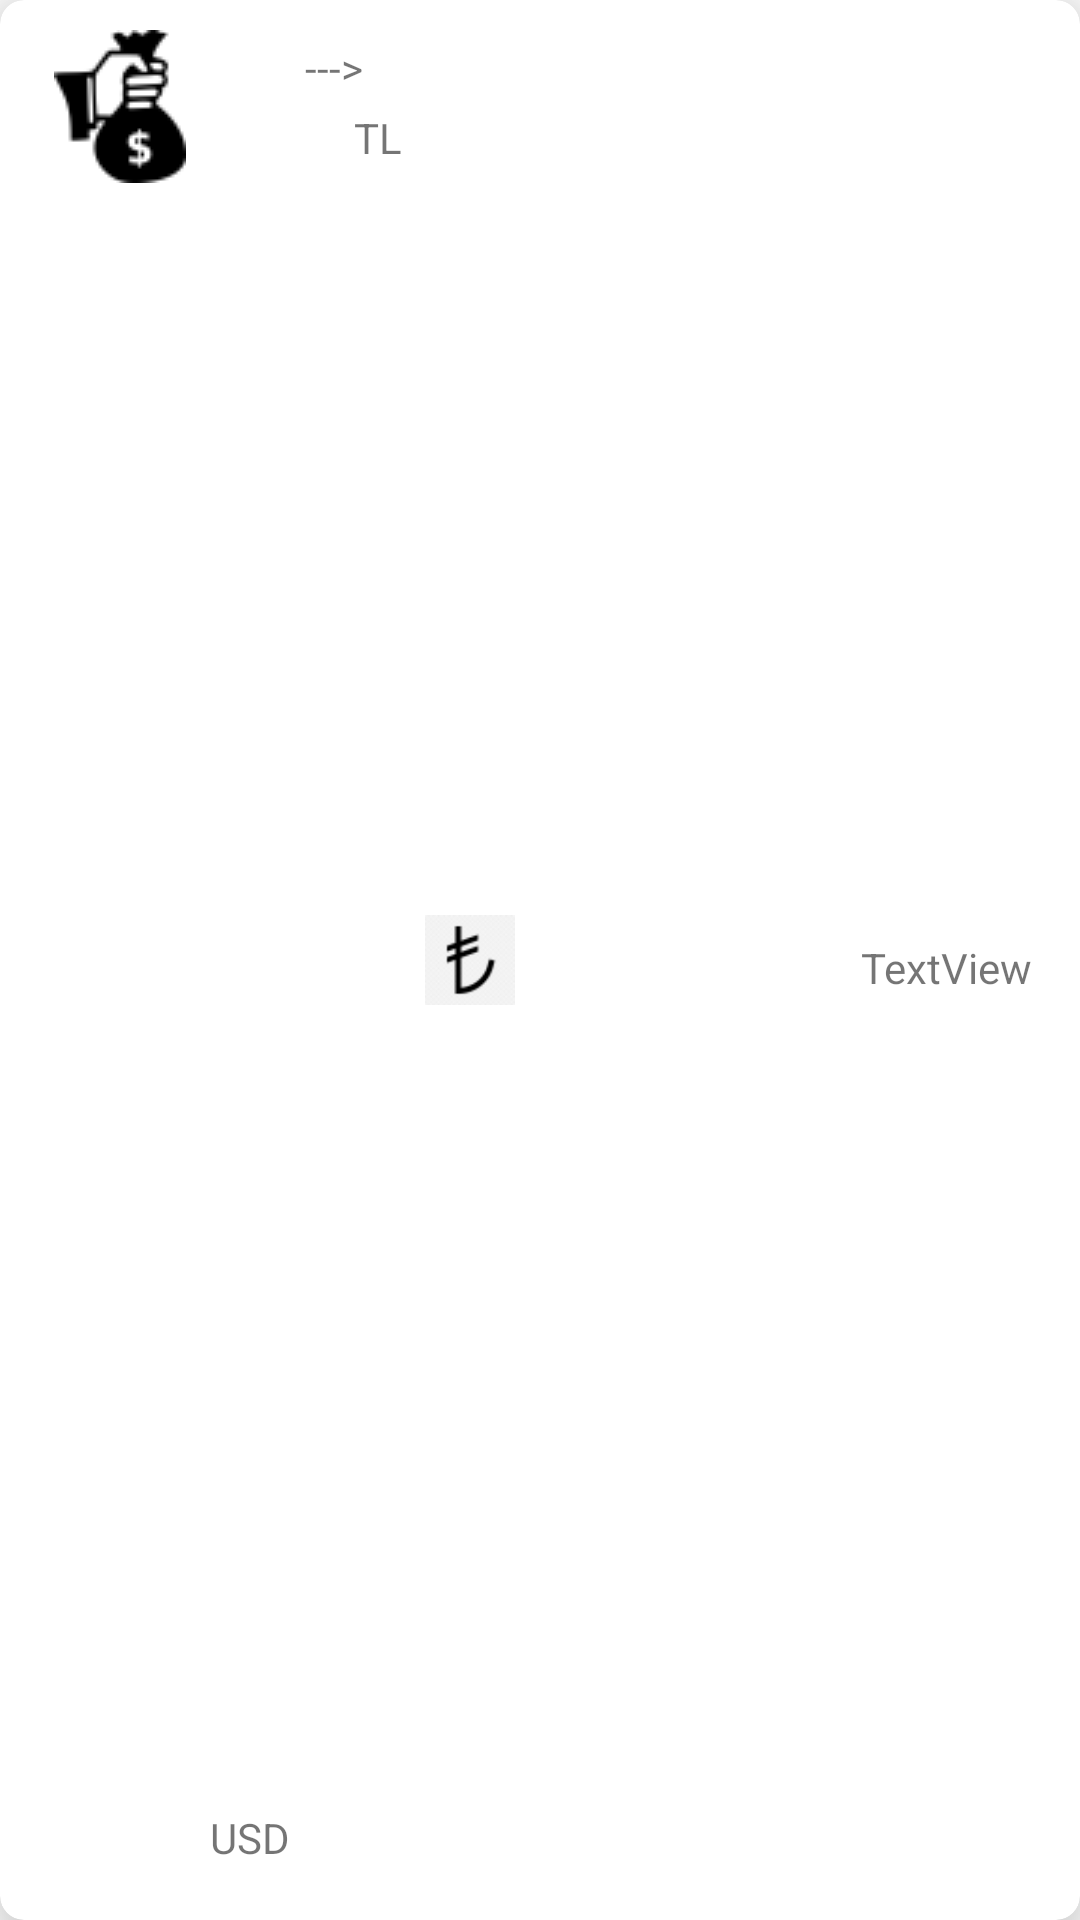

Named icons in this screenshot (1080px x 1920px) and their centers, [x,y]:
turklirasisembol: [470,960]
